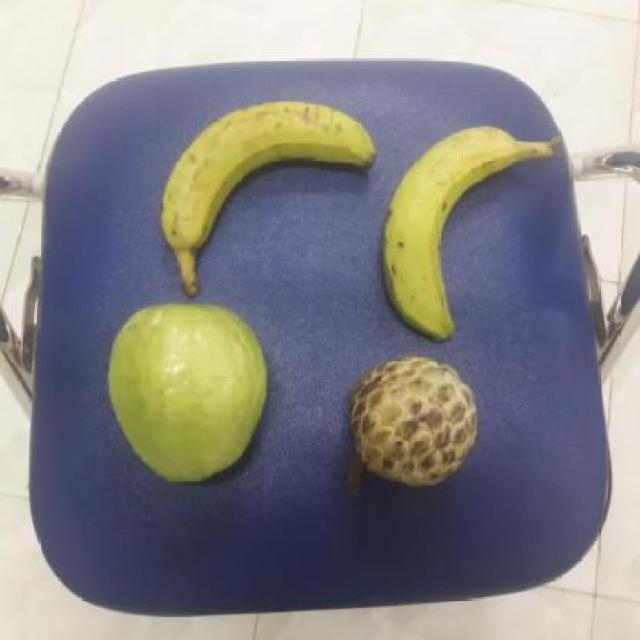banana: (378, 117, 530, 345), (157, 102, 381, 255)
guava: (105, 298, 270, 487)
sugar apple: (352, 350, 481, 487)
